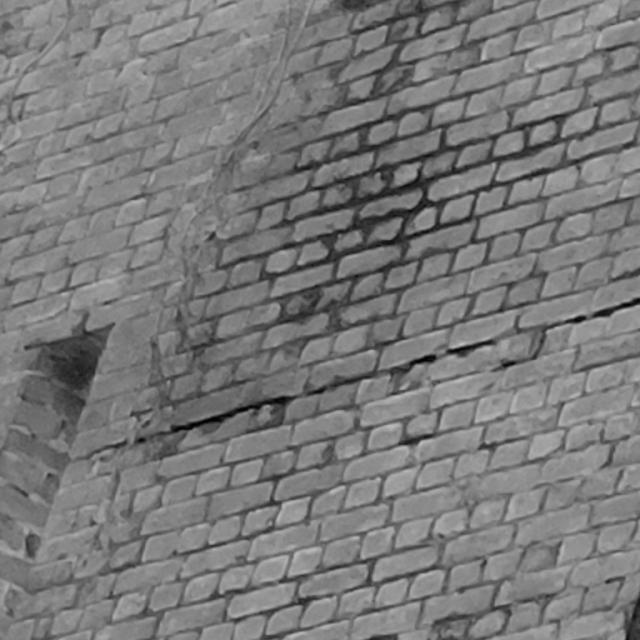crack: (68, 296, 640, 462)
